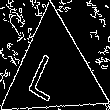L_NE: (31, 41, 76, 101)
